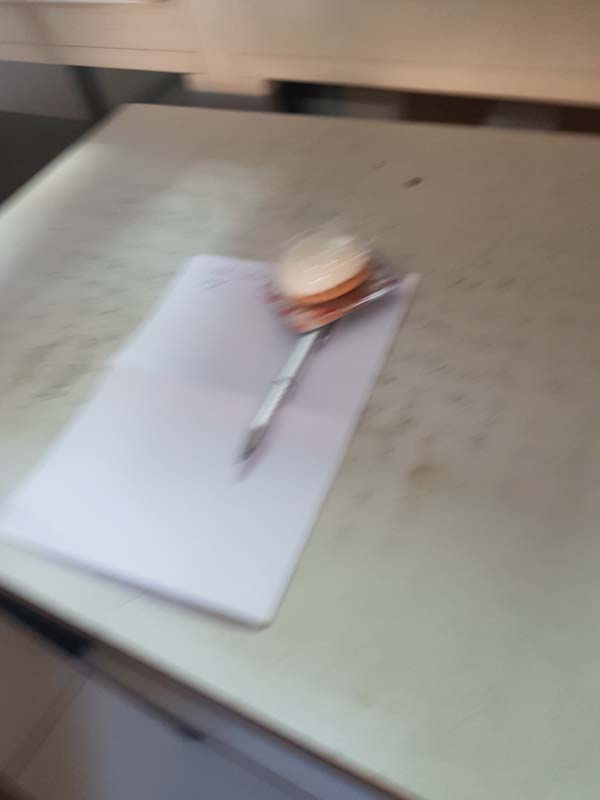etipuf: (272, 218, 388, 317)
